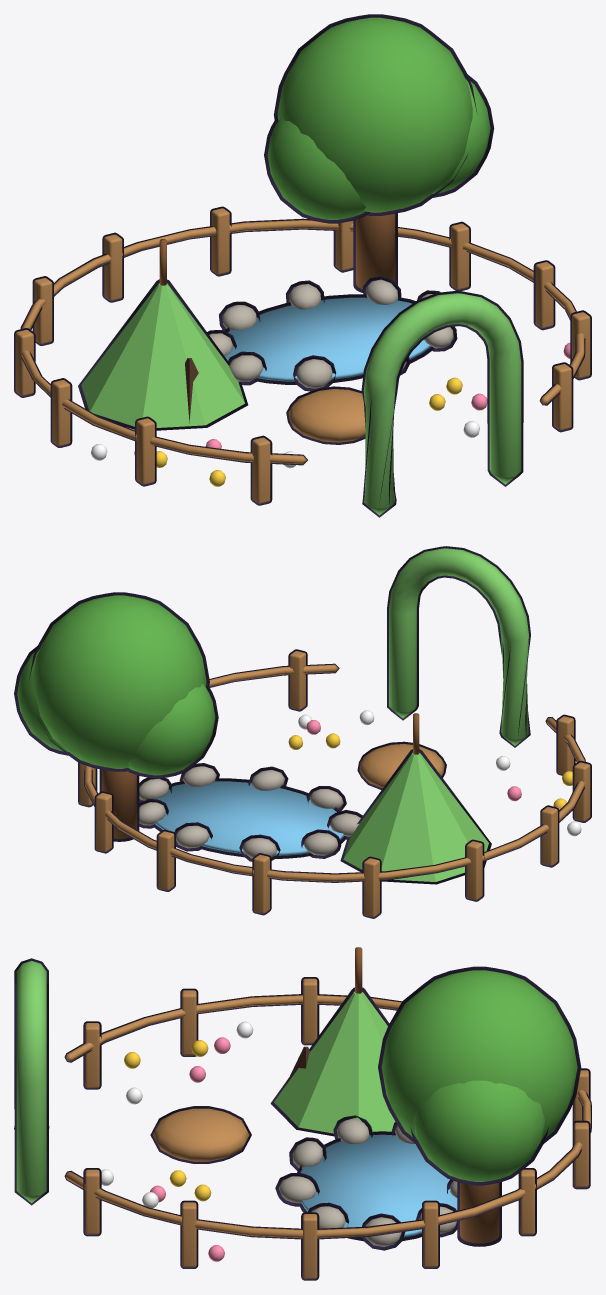
Rendered from sanctuary_2.glb.
3 renders of one model, top to bottom at view 1: azimuth 30°, elevation 25°; view 2: azimuth 150°, elevation 25°; view 3: azimuth 270°, elevation 25°, orthographic. The views are drawn at different scales.
Parts seen in each view (by area): view 1: crown, arch, tent, pond, rail, crown.001, nest, trunk, crown.002, box.009, box.008, box.007 (+14 smaller); view 2: crown, arch, tent, pond, rail, crown.001, nest, crown.002, trunk, box.005, box.004, box.006 (+16 smaller); view 3: crown, crown.002, tent, pond, rail, arch, nest, trunk, box, box.011, box.010, box.002 (+11 smaller).
Part boxes in pixels (left/top/right/bottom): crown: left=274, top=14, right=477, bottom=215; arch: left=361, top=290, right=523, bottom=517; tent: left=78, top=279, right=248, bottom=430; pond: left=224, top=294, right=434, bottom=384; rail: left=20, top=218, right=585, bottom=465; crown.001: left=264, top=114, right=370, bottom=223; nest: left=286, top=386, right=365, bottom=444; trunk: left=353, top=212, right=397, bottom=292; crown.002: left=432, top=74, right=494, bottom=197; box.009: left=250, top=435, right=272, bottom=505; box.008: left=135, top=416, right=156, bottom=486; box.007: left=50, top=378, right=72, bottom=447; crown: left=29, top=592, right=209, bottom=771; arch: left=387, top=546, right=530, bottom=747; tent: left=340, top=749, right=491, bottom=884; pond: left=146, top=778, right=346, bottom=858; rail: left=84, top=663, right=585, bottom=882; crown.001: left=124, top=681, right=218, bottom=778; nest: left=357, top=741, right=446, bottom=789; crown.002: left=14, top=646, right=69, bottom=755; trunk: left=99, top=768, right=139, bottom=841; box.005: left=362, top=856, right=381, bottom=918; box.004: left=252, top=853, right=271, bottom=915; box.006: left=465, top=839, right=484, bottom=901; crown: left=378, top=966, right=581, bottom=1143; crown.002: left=410, top=1080, right=548, bottom=1185; tent: left=270, top=987, right=395, bottom=1136; pond: left=297, top=1131, right=457, bottom=1241; rail: left=64, top=994, right=591, bottom=1239; arch: left=14, top=958, right=49, bottom=1205; nest: left=150, top=1106, right=251, bottom=1163; trunk: left=457, top=1182, right=501, bottom=1246; box: left=301, top=1212, right=319, bottom=1280; box.011: left=180, top=1200, right=198, bottom=1268; box.010: left=83, top=1168, right=101, bottom=1236; box.002: left=518, top=1168, right=536, bottom=1236.
Size of the model in its own units: 4.9 by 2.52 by 4.77.
